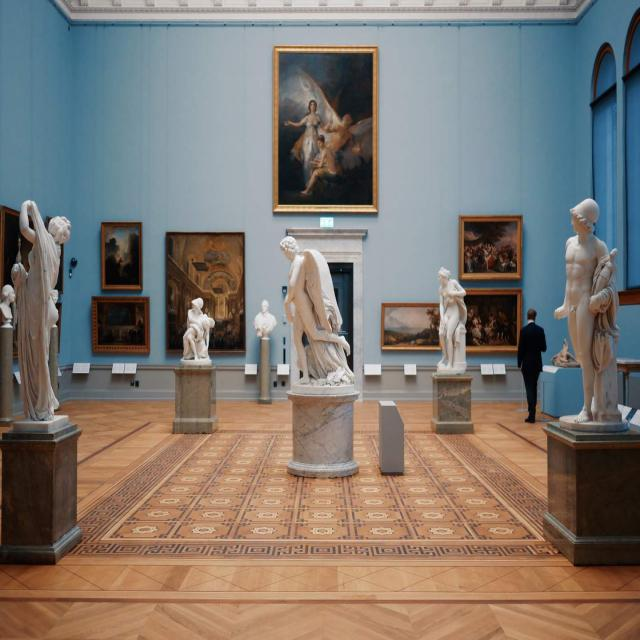Tablo: (278, 52, 373, 206), (166, 233, 244, 351), (463, 220, 518, 274), (463, 294, 518, 346), (383, 306, 440, 346), (104, 226, 140, 286), (96, 303, 145, 346)
